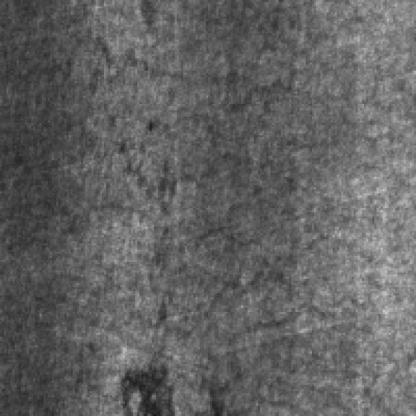crazing: (141, 139, 306, 339), (54, 25, 308, 121)
